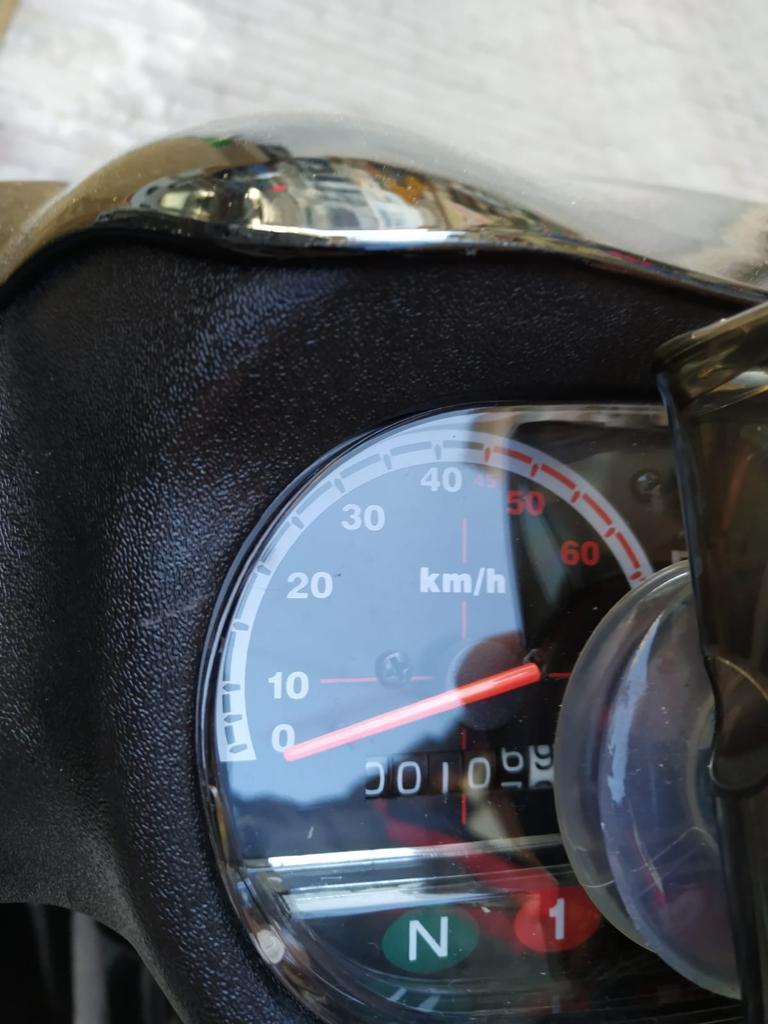0: (395, 760, 422, 795), (362, 760, 386, 796), (466, 755, 491, 789)
1: (440, 760, 451, 794)
6: (499, 739, 524, 773)
9: (533, 739, 554, 770)
odometer: (359, 742, 562, 802)
